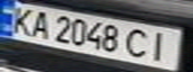0: (66, 16, 87, 47)
2: (48, 12, 72, 44)
4: (84, 19, 106, 52)
8: (100, 22, 124, 55)
A: (24, 9, 54, 39)
C: (124, 26, 154, 60)
I: (145, 29, 178, 63)
K: (3, 4, 39, 36)
